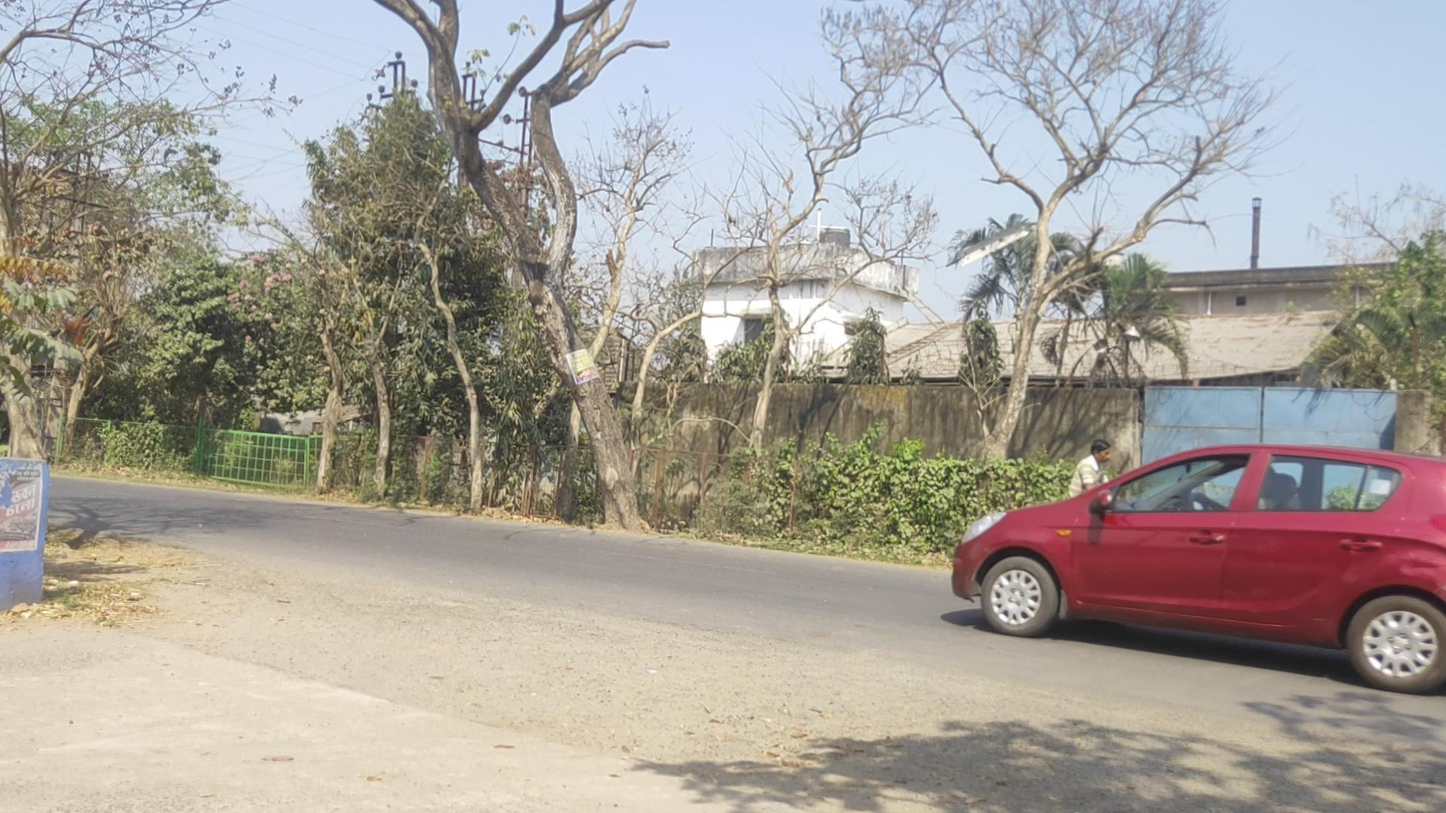car: (951, 442, 1446, 694)
